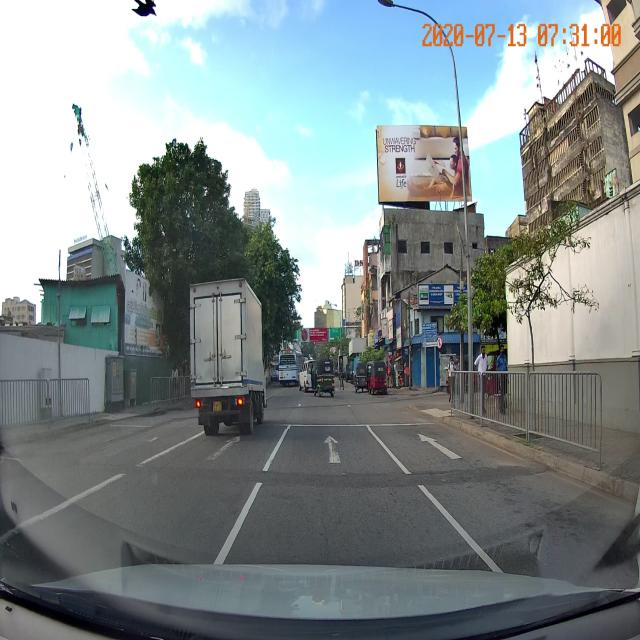diamond: (261, 429, 410, 474)
